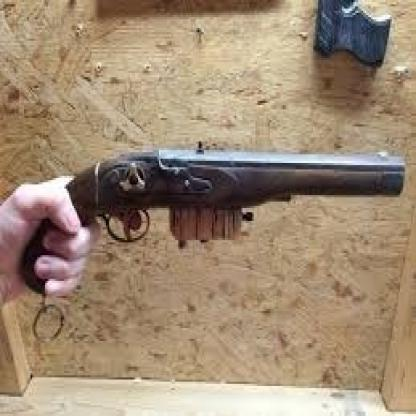Pistol: (42, 144, 400, 242)
